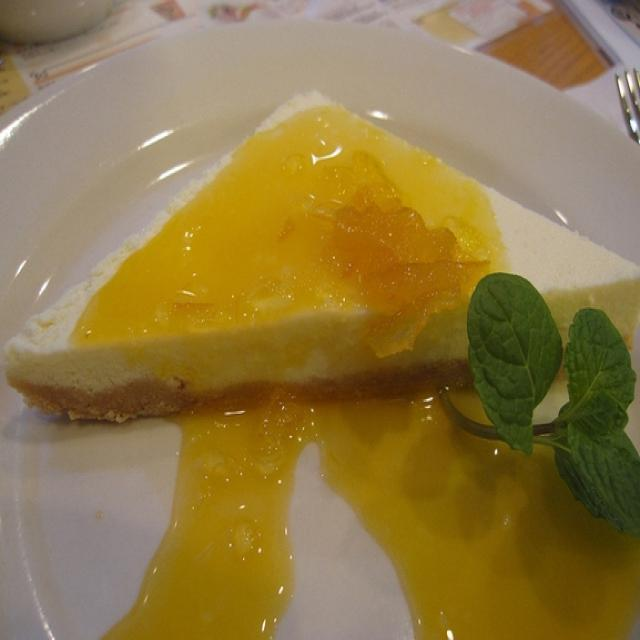Rare cheese cake: (5, 83, 640, 522)
